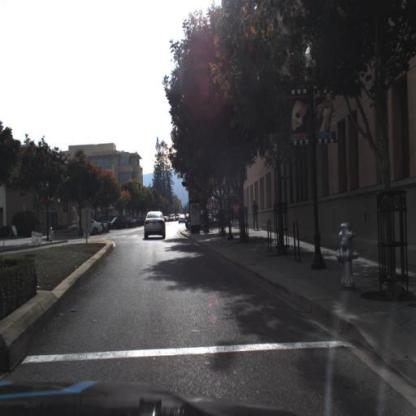car: (64, 215, 105, 238), (144, 210, 167, 242)
pedestrian: (250, 200, 261, 233)
